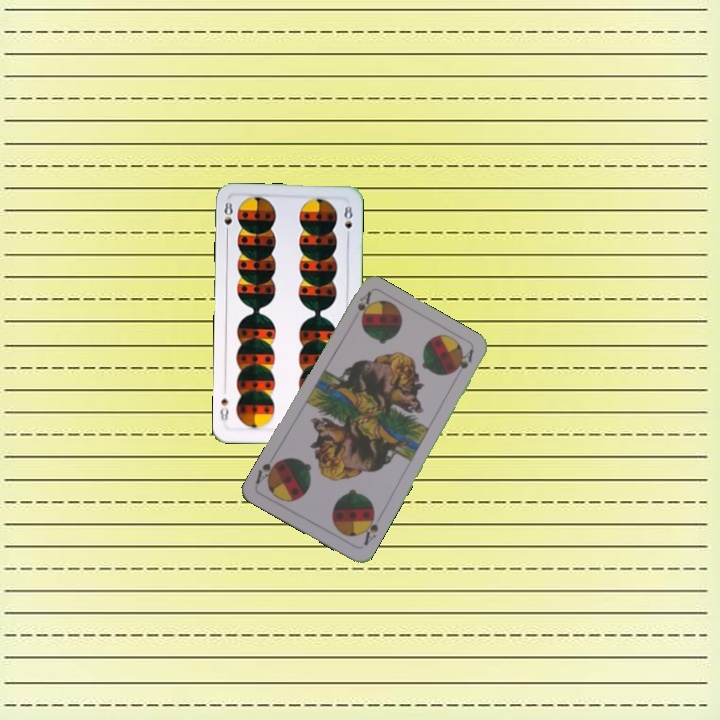S8: (220, 198, 235, 238)
SA: (357, 508, 381, 548), (353, 288, 374, 321)
